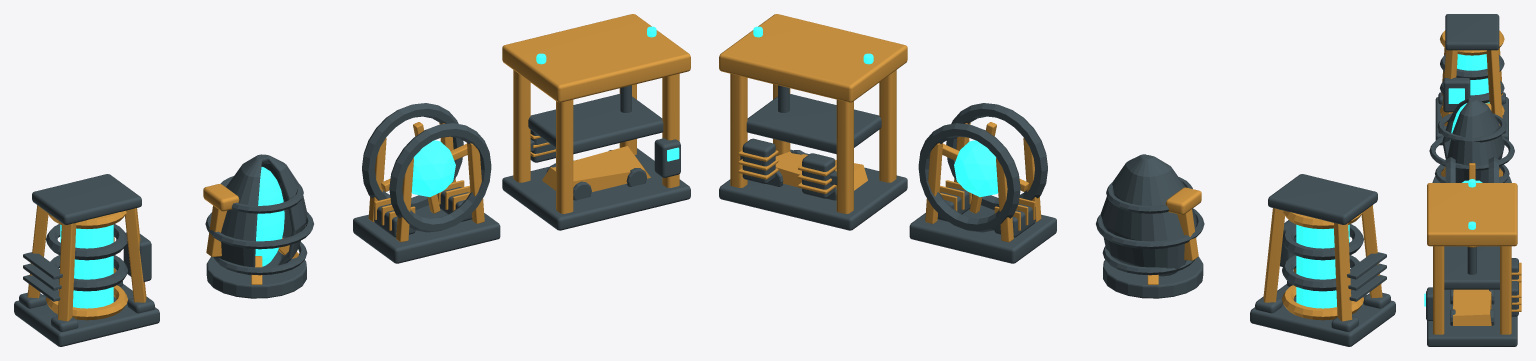
File: scrapyard-heroes.glb
3 renders of one model, left to right at view 1: azimuth 30°, elevation 25°; view 2: azimuth 150°, elevation 25°; view 3: azimuth 270°, elevation 25°, orthographic. The views are drawn at different scales.
Visible parts, largest first — view 1: Crown, Compactor base, Split alien shell, Press platen, Singularity skids, Containment arch, Top lock, Reactor skid, Containment arch.001, Pod landing ring, Energy vessel, Crushed unbranded hull (+22 smaller); view 2: Crown, Split alien shell, Compactor base, Press platen, Singularity skids, Containment arch.001, Top lock, Reactor skid, Containment arch, Pod landing ring, Energy vessel, Press column.001 (+21 smaller); view 3: Crown, Split alien shell, Compactor base, Press platen, Top lock, Crushed unbranded hull, Press column.002, Press column.003, Angled load frame.003, Energy vessel, Alien armor band.001, Alien armor band.002 (+16 smaller).
Boxes of the visible parts, <box> form: Crown: <box>502,14,690,102</box>; Compactor base: <box>502,148,690,230</box>; Split alien shell: <box>215,154,307,275</box>; Press platen: <box>528,94,663,154</box>; Singularity skids: <box>353,205,500,263</box>; Containment arch: <box>389,123,491,232</box>; Top lock: <box>32,174,141,224</box>; Reactor skid: <box>14,284,159,346</box>; Containment arch.001: <box>362,103,463,209</box>; Pod landing ring: <box>206,256,306,298</box>; Energy vessel: <box>60,224,113,308</box>; Crushed unbranded hull: <box>542,146,650,191</box>; Crown: <box>719,14,907,102</box>; Split alien shell: <box>1100,154,1196,276</box>; Compactor base: <box>719,149,907,230</box>; Press platen: <box>746,94,881,154</box>; Singularity skids: <box>909,205,1056,263</box>; Containment arch.001: <box>918,123,1020,232</box>; Top lock: <box>1268,174,1377,224</box>; Reactor skid: <box>1250,284,1395,346</box>; Containment arch: <box>946,103,1047,209</box>; Pod landing ring: <box>1103,256,1203,298</box>; Energy vessel: <box>1296,224,1349,308</box>; Press column.001: <box>836,99,853,213</box>; Crown: <box>1427,183,1517,246</box>; Split alien shell: <box>1442,97,1504,182</box>; Compactor base: <box>1427,287,1517,346</box>; Press platen: <box>1444,246,1499,289</box>; Top lock: <box>1445,14,1499,50</box>; Crushed unbranded hull: <box>1453,289,1491,325</box>; Press column.002: <box>1433,246,1444,334</box>; Press column.003: <box>1500,246,1511,334</box>; Angled load frame.003: <box>1486,50,1502,125</box>; Energy vessel: <box>1457,54,1489,103</box>; Alien armor band.001: <box>1429,136,1514,170</box>; Alien armor band.002: <box>1437,113,1506,142</box>.
Bounding box in the file's own units: 14.78 × 3.46 × 2.52.
